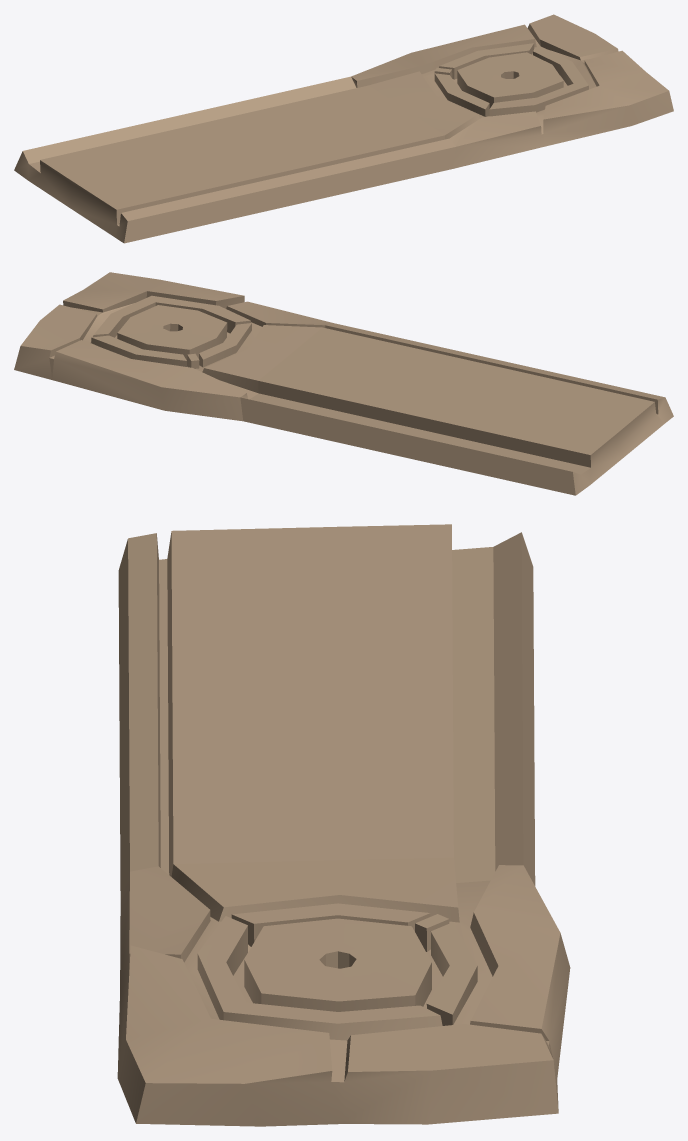
Rendered from switch1.FBX.
The picture shows the model from 3 angles, top to bottom: view 1: azimuth 30°, elevation 25°; view 2: azimuth 150°, elevation 25°; view 3: azimuth 270°, elevation 25°; orthographic projection. The views are drawn at different scales.
Parts seen in each view (by area): view 1: switch, pattern; view 2: switch, pattern; view 3: switch, pattern.
Part boxes in pixels (x1,y1,x2,y2): switch: (14,14,673,243); pattern: (117,28,596,226); switch: (14,272,673,495); pattern: (50,303,657,415); switch: (117,524,570,1126); pattern: (159,559,549,1082).
Size of the model in its own units: 35.16 by 1.8 by 12.28.
